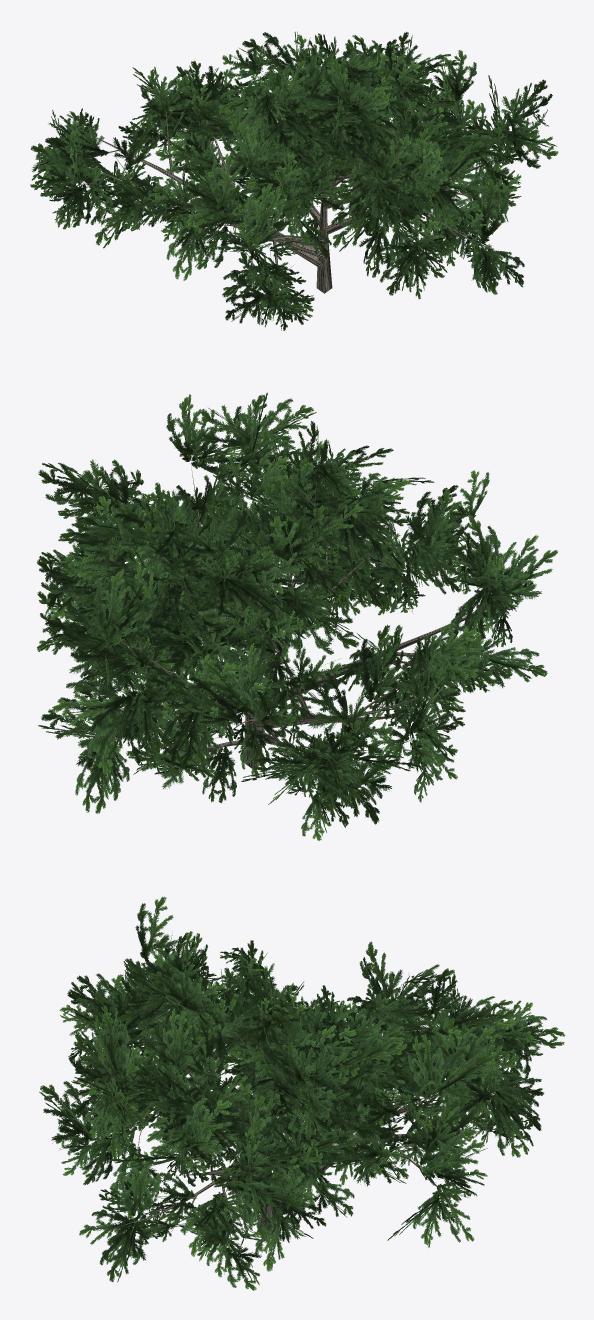
File: tree (8).glb
3 renders of one model, top to bottom at view 1: azimuth 30°, elevation 25°; view 2: azimuth 150°, elevation 25°; view 3: azimuth 270°, elevation 25°, orthographic. The views are drawn at different scales.
Parts seen in each view (by area): view 1: Tree; view 2: Tree; view 3: Tree.
Boxes of the visible parts, x1,y1,x2,y2 form: Tree: [30, 31, 558, 330]; Tree: [36, 392, 557, 840]; Tree: [39, 896, 565, 1290].
Size of the model in its own units: 32.64 by 19.7 by 32.04.
Materials: 2 (2 with a texture image).
